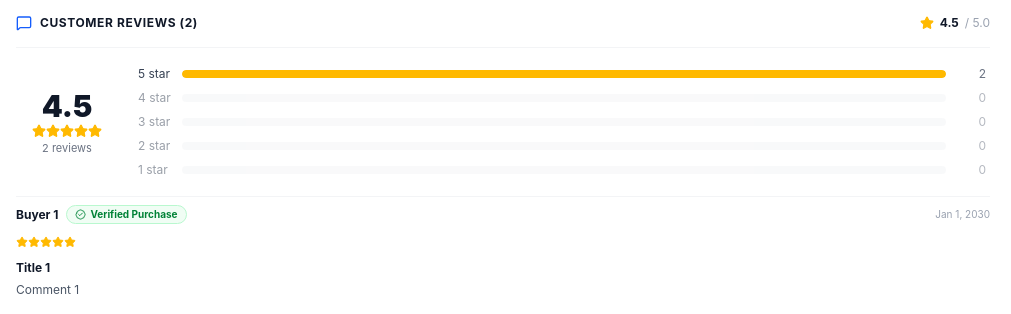
it: ProductReviewsSection: visitors and non-buyers › filters by a star when its bar is clicked, and asks again for only that rating
The width and height of the screenshot is (1011, 314).
Expected: the text "Comment 1" is shown, left=16, top=282, right=79, bottom=297
Click the button with aria-label "5 stars: 2 reviews".
click(562, 74)  # box left=134, top=64, right=990, bottom=84
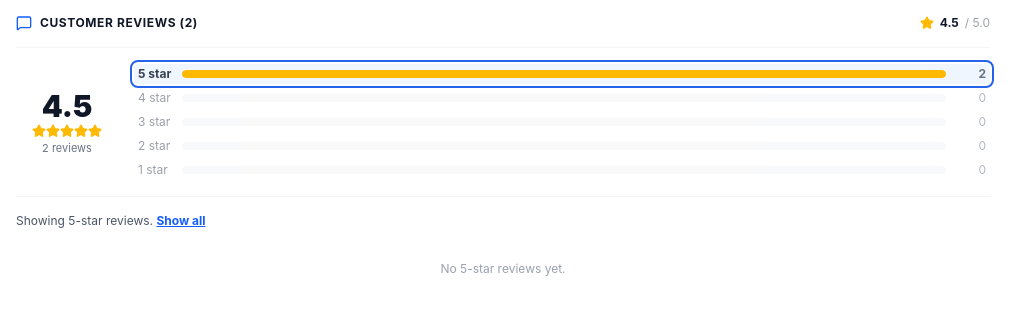
Now the text "No 5-star reviews yet." is shown, box left=440, top=261, right=566, bottom=276
Click the button "Show all".
click(181, 221)  # box left=156, top=213, right=205, bottom=229
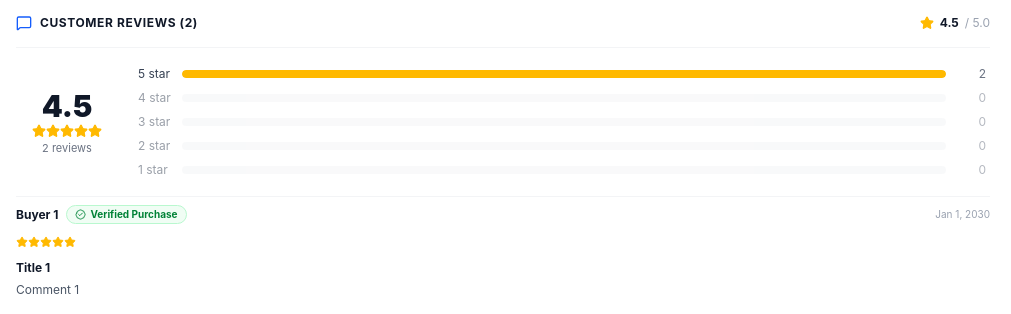
Now the text "Comment 1" is shown, box left=16, top=282, right=79, bottom=297
